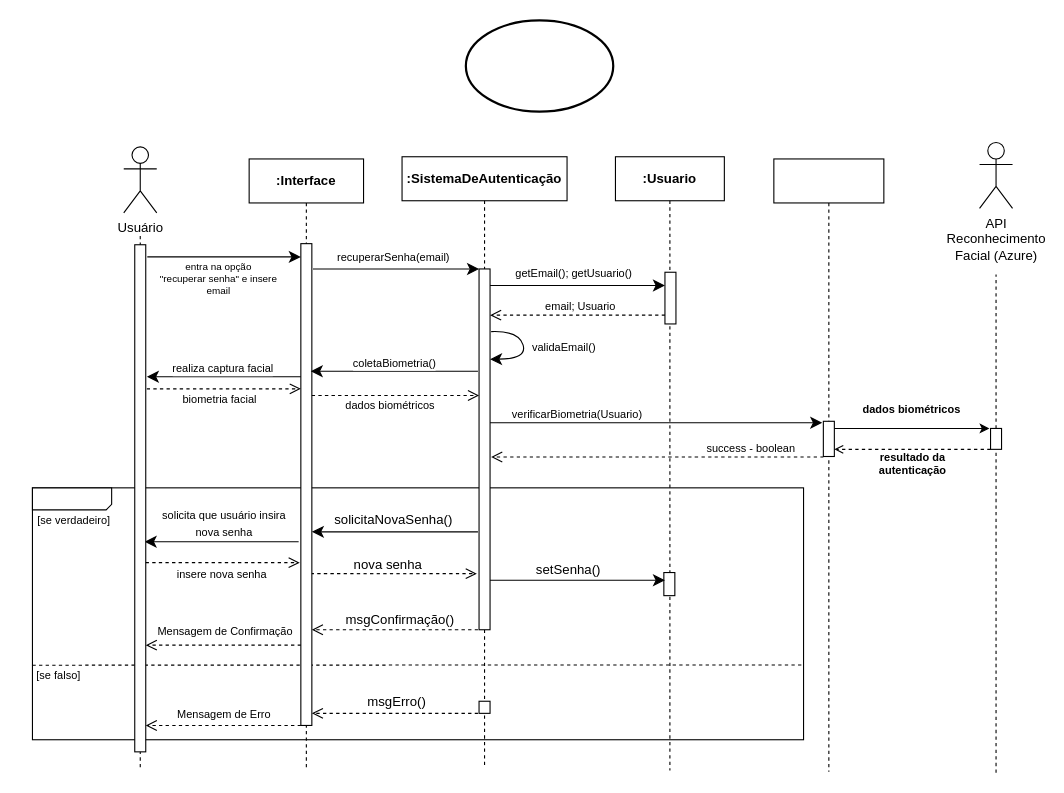
The diagram is 1064 pixels wide and 793 high, and some of its shapes have lost their labels. The centre of each missing label's shape, as x and y in pixels:
":APIBiometria" belongs at [828,465].
"UC-04 Recuperar Senha" belongs at [539,65].
"verifica resultado da autenticação" belongs at [71,498].
